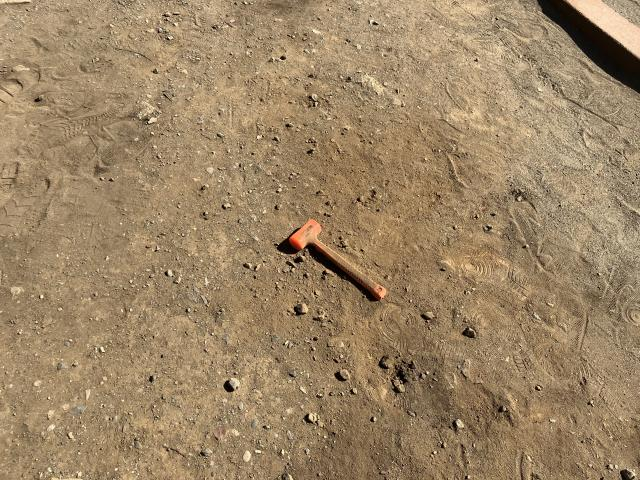hammer: (291, 218, 388, 300)
